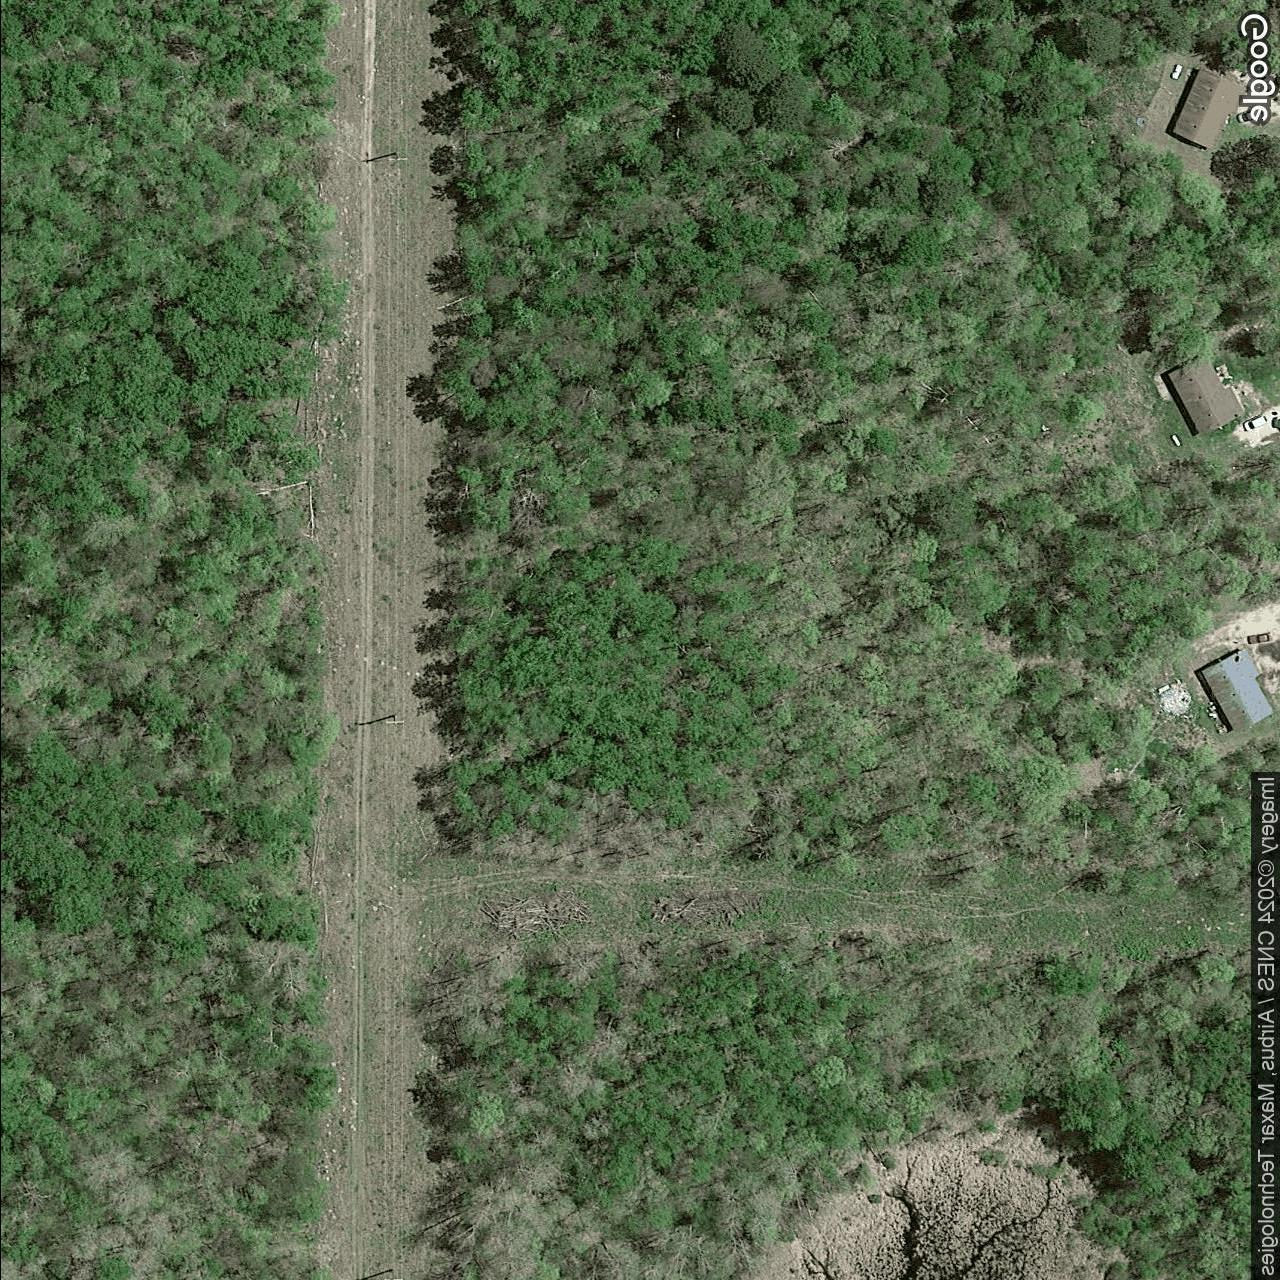House: (1199, 648, 1275, 734), (1169, 67, 1245, 151)
Propane: (1166, 350, 1246, 436), (1167, 62, 1183, 81), (1167, 431, 1183, 449), (1155, 682, 1172, 695)
